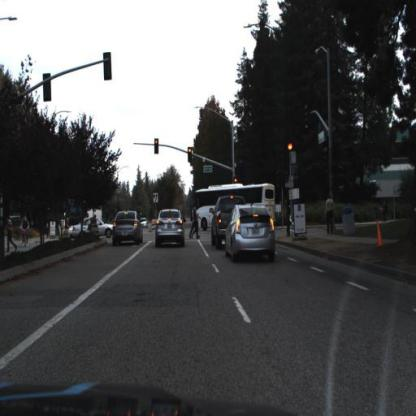biker: (18, 216, 32, 248), (378, 196, 391, 226)
car: (226, 205, 277, 263), (209, 195, 245, 251), (72, 216, 114, 241), (114, 212, 143, 247), (156, 212, 184, 247), (212, 198, 230, 248), (71, 219, 113, 240), (140, 217, 150, 230), (142, 218, 149, 230)
pedestrian: (324, 194, 338, 235), (324, 193, 335, 237), (190, 202, 200, 241), (7, 215, 16, 255), (189, 201, 196, 241), (193, 204, 200, 240)
trafficLight-Red: (288, 141, 294, 161), (188, 143, 193, 161), (188, 146, 193, 162), (289, 143, 294, 159), (234, 178, 239, 186), (234, 178, 239, 183)
trafficLight-RedLeft: (155, 139, 160, 156)
truck: (196, 188, 276, 228), (64, 199, 104, 234)
